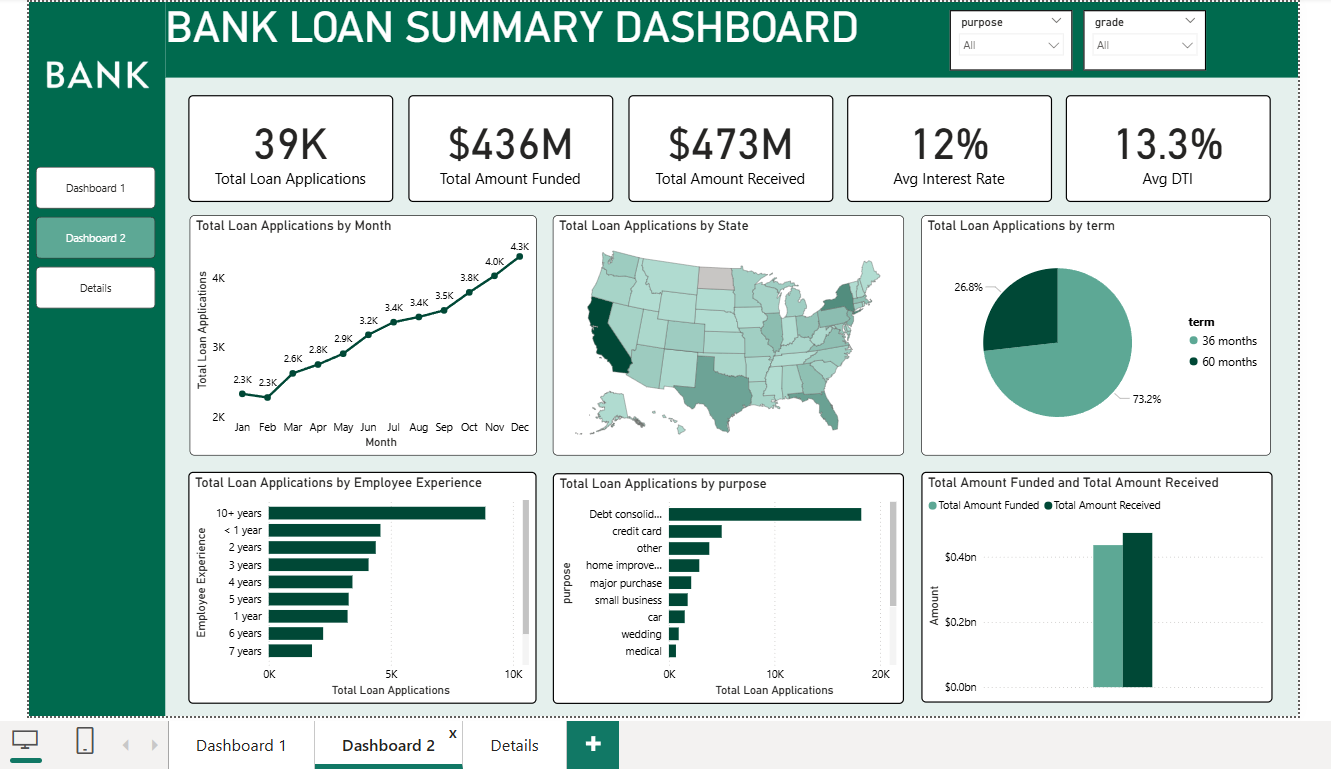

Layout of this report page (visuals, bound fields, positions):
{"tool":"powerbi","page":{"name":"Dashboard 2","canvas":[1600,900],"ordinal":1},"visuals":[{"type":"shape","box":[0,0,172,900.7],"z":0},{"type":"shape","box":[172,0,1428.5,95.4],"z":1000},{"type":"card","fields":{"Values":["public loan.Total Loan Applications"]},"box":[201.6,117.5,258.8,134.5],"z":2000},{"type":"card","fields":{"Values":["public loan.Total Amount Funded"]},"box":[479.1,117.5,258.8,134.5],"z":3000},{"type":"card","fields":{"Values":["public loan.Total Amount Received"]},"box":[756.7,117.5,258.8,134.5],"z":4000},{"type":"card","fields":{"Values":["public loan.Avg Interest Rate"]},"box":[1032.5,117.5,258.8,134.5],"z":5000},{"type":"card","fields":{"Values":["public loan.Avg DTI"]},"box":[1308.3,117.5,258.8,134.5],"z":6000},{"type":"clusteredBarChart","title":"Total Loan Applications by Employee Experience","fields":{"Category":["public loan.emp_length"],"Y":["public loan.Total Loan Applications"]},"box":[200.9,592.5,439.3,292.9],"z":7000},{"type":"shapeMap","fields":{"Category":["public loan.address_state"],"Value":["public loan.Total Loan Applications"]},"box":[660.6,269,442.7,303.1],"z":8000},{"type":"clusteredBarChart","fields":{"Category":["public loan.purpose"],"Y":["public loan.Total Loan Applications"]},"box":[660.6,594.2,442.7,291.2],"z":9000},{"type":"pieChart","fields":{"Category":["public loan.term"],"Y":["public loan.Total Loan Applications"]},"box":[1125.5,269,441,303.1],"z":10000},{"type":"clusteredColumnChart","fields":{"Y":["public loan.Total Amount Funded","public loan.Total Amount Received"]},"box":[1125.5,592.5,442.7,291.2],"z":11000},{"type":"lineChart","fields":{"Category":["Date Table.Month"],"Y":["public loan.Total Loan Applications"]},"box":[202.6,269,437.6,303.1],"z":12000},{"type":"pageNavigator","box":[8.5,207.7,151.5,180.5],"z":13000},{"type":"image","box":[13.6,20.4,146.4,139.6],"z":14000},{"type":"slicer","fields":{"Values":["public loan.grade"]},"box":[1329.8,10.2,154.9,76.6],"z":15000},{"type":"slicer","fields":{"Values":["public loan.purpose"]},"box":[1161.2,10.2,154.9,76.6],"z":16000}]}

Visuals, with their boxes on the page's 1600x900 design canvas (x1, y1, x2, y2). These are canvas units, not pixel positions in the 1331x769 screenshot, which may show the page scaled, cropped or inside an application window:
shape: (x1=0, y1=0, x2=172, y2=901)
shape: (x1=172, y1=0, x2=1600, y2=95)
card - public loan.Total Loan Applications: (x1=202, y1=118, x2=460, y2=252)
card - public loan.Total Amount Funded: (x1=479, y1=118, x2=738, y2=252)
card - public loan.Total Amount Received: (x1=757, y1=118, x2=1016, y2=252)
card - public loan.Avg Interest Rate: (x1=1032, y1=118, x2=1291, y2=252)
card - public loan.Avg DTI: (x1=1308, y1=118, x2=1567, y2=252)
"Total Loan Applications by Employee Experience" clusteredBarChart: (x1=201, y1=592, x2=640, y2=885)
shapeMap - public loan.address_state x public loan.Total Loan Applications: (x1=661, y1=269, x2=1103, y2=572)
clusteredBarChart - public loan.purpose x public loan.Total Loan Applications: (x1=661, y1=594, x2=1103, y2=885)
pieChart - public loan.term x public loan.Total Loan Applications: (x1=1126, y1=269, x2=1566, y2=572)
clusteredColumnChart - public loan.Total Amount Funded x public loan.Total Amount Received: (x1=1126, y1=592, x2=1568, y2=884)
lineChart - Date Table.Month x public loan.Total Loan Applications: (x1=203, y1=269, x2=640, y2=572)
pageNavigator: (x1=8, y1=208, x2=160, y2=388)
image: (x1=14, y1=20, x2=160, y2=160)
slicer - public loan.grade: (x1=1330, y1=10, x2=1485, y2=87)
slicer - public loan.purpose: (x1=1161, y1=10, x2=1316, y2=87)
